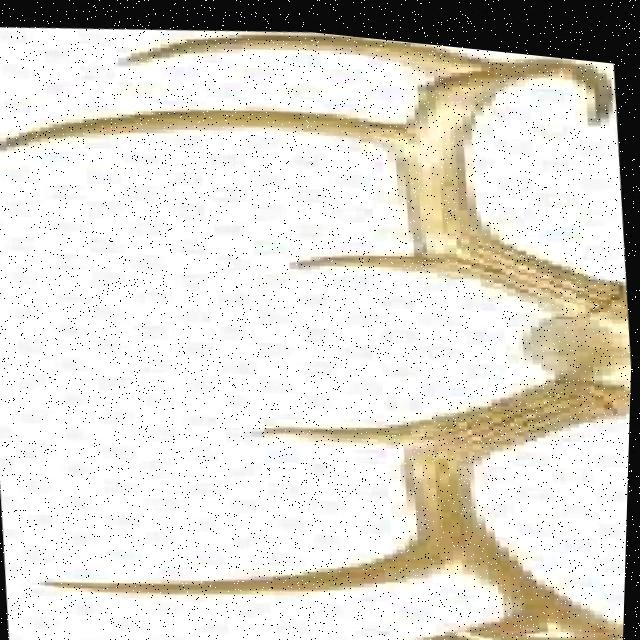L-F: (402, 365, 633, 635)
L-G1: (240, 413, 410, 440)
L-G2: (34, 528, 463, 592)
R-F: (394, 44, 626, 304)
R-G1: (285, 244, 429, 265)
R-G2: (0, 102, 405, 153)
R-G3: (110, 27, 492, 70)
